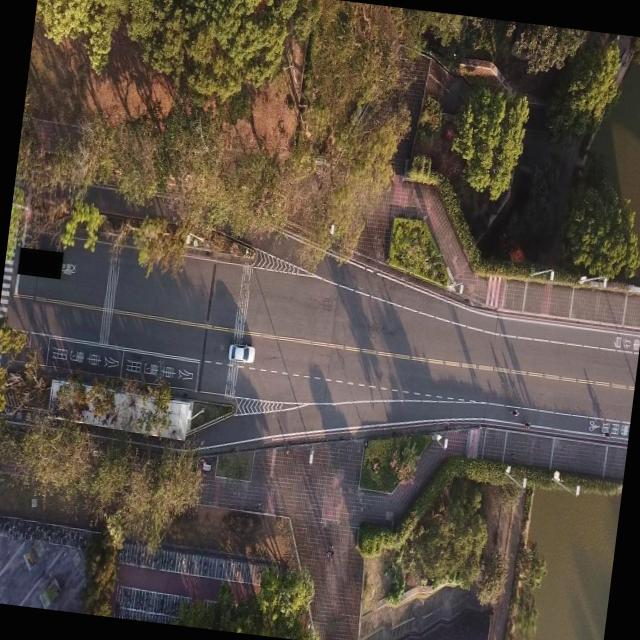car: (226, 341, 254, 364)
